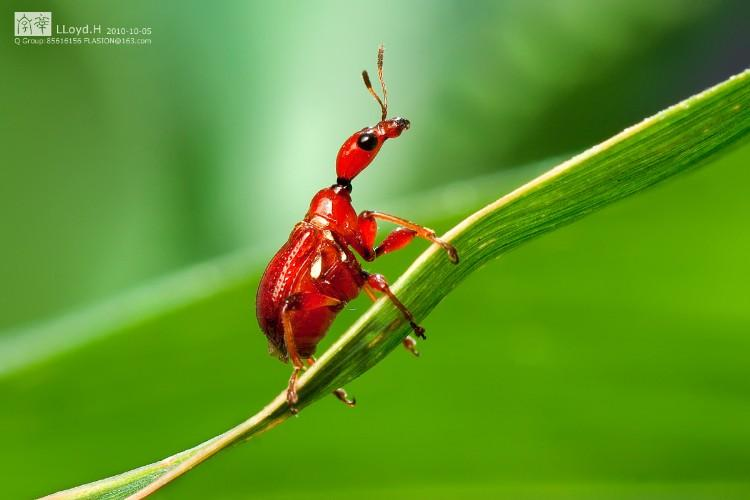Curculionidae: (255, 41, 459, 419)
